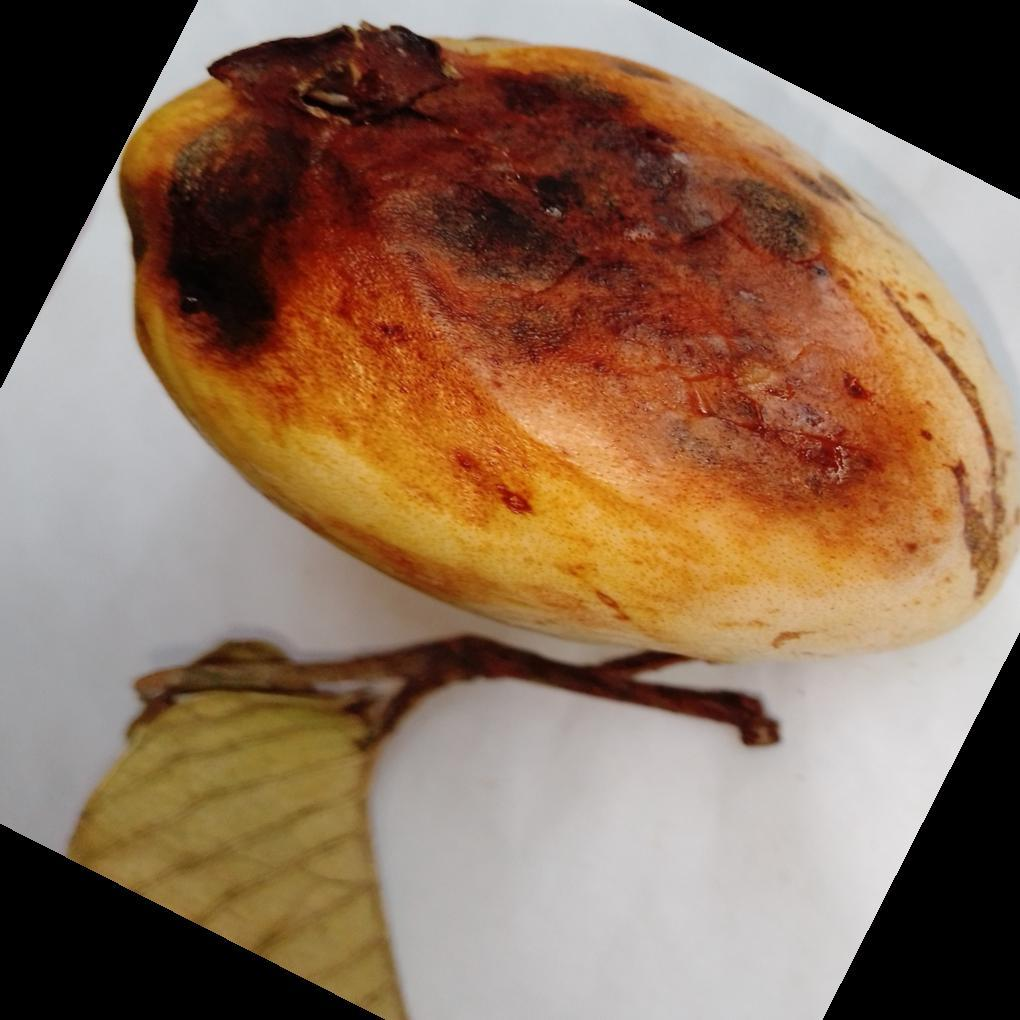FreshOrange: (114, 24, 1020, 665)
